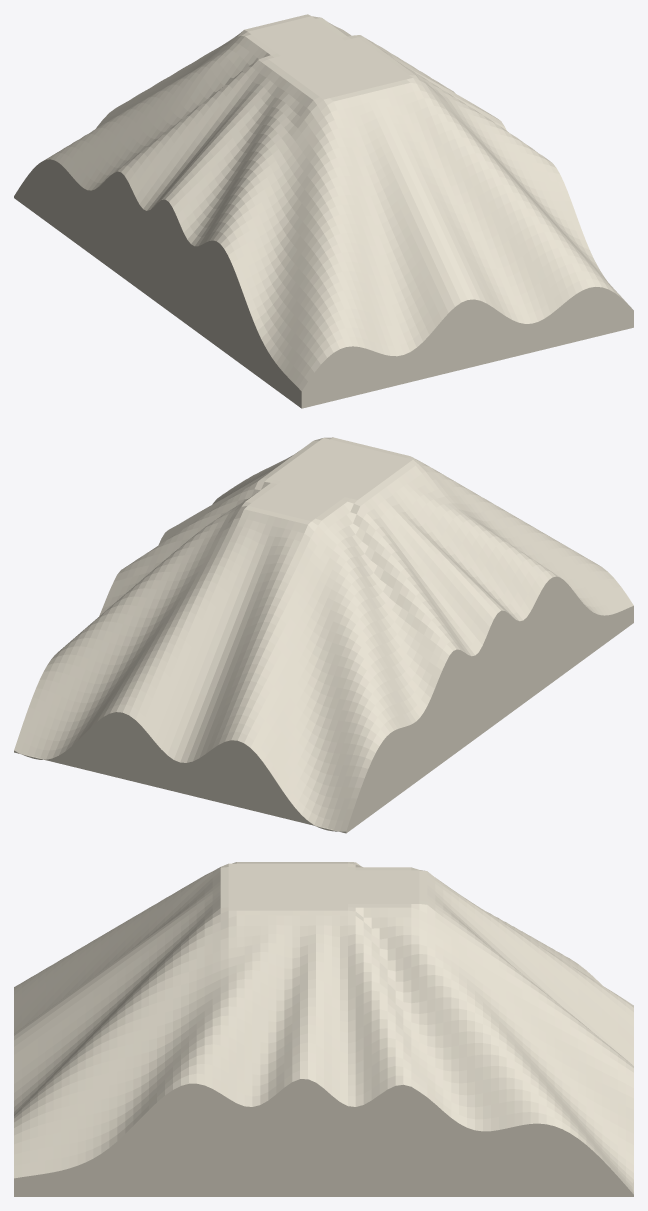
The model's file is Test_CheonRef_GroundedMountainBase.fbx.
The picture shows the model from 3 angles, top to bottom: view 1: azimuth 30°, elevation 25°; view 2: azimuth 150°, elevation 25°; view 3: azimuth 270°, elevation 25°; orthographic projection. The views are drawn at different scales.
Visible parts, largest first — view 1: BroadGroundedMountainBase; view 2: BroadGroundedMountainBase; view 3: BroadGroundedMountainBase.
Boxes of the visible parts, bbox=[...] form: BroadGroundedMountainBase: bbox=[14, 14, 633, 408]; BroadGroundedMountainBase: bbox=[14, 437, 633, 833]; BroadGroundedMountainBase: bbox=[14, 862, 633, 1196].
Bounding box in the file's own units: 21000 × 12568 × 31500.
